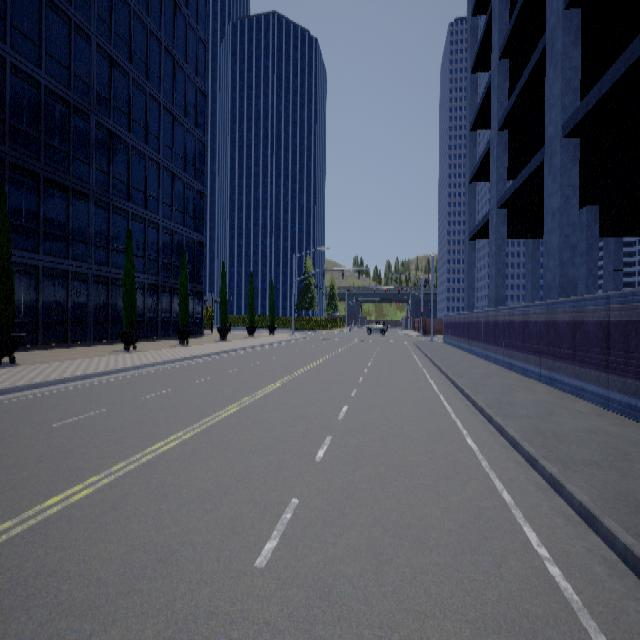vehicle: (365, 315, 386, 333)
